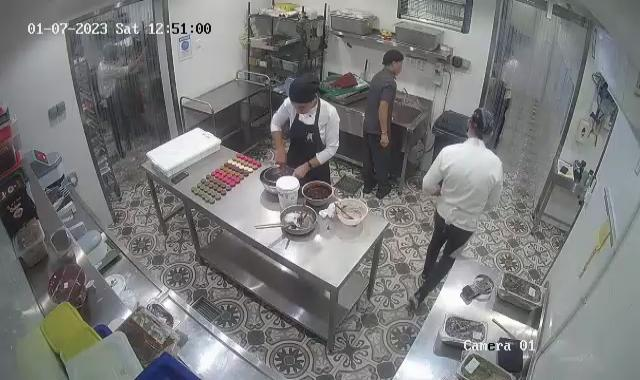no_hairnet: (290, 76, 319, 113), (467, 108, 495, 142), (380, 48, 404, 73)
